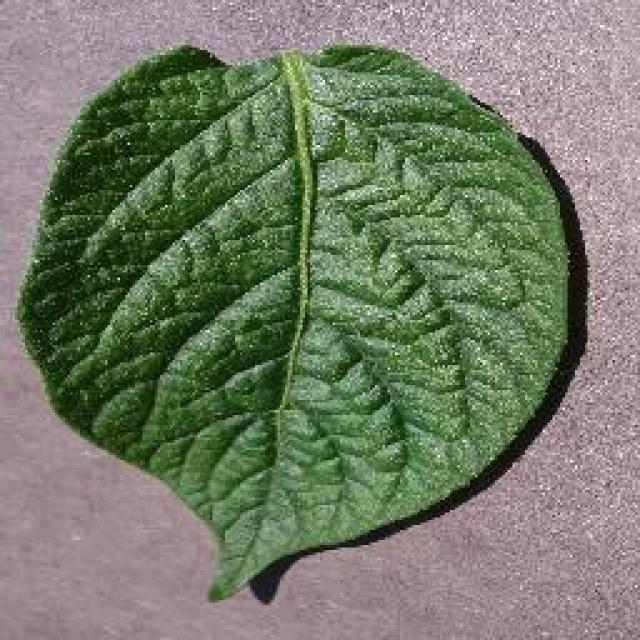Potato___healthy: (13, 39, 571, 608)
